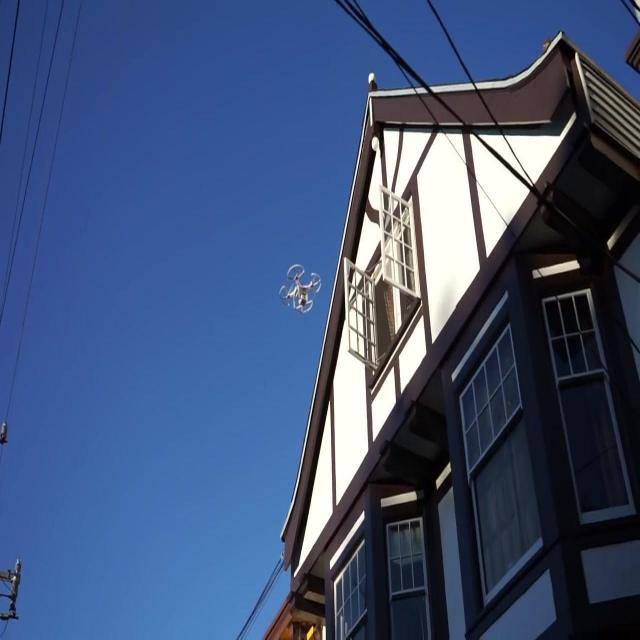UAV: (279, 264, 321, 314)
